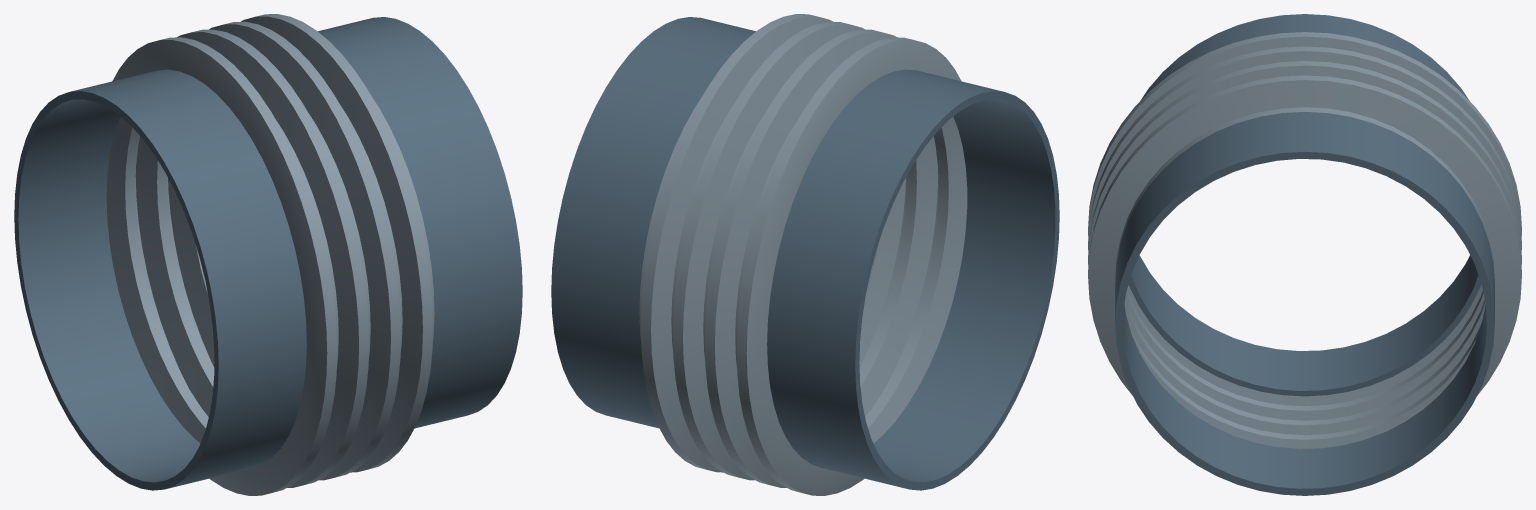
The model's file is silf-dn500-L455-D530.glb.
3 views of the same model, side by side, from view 1: azimuth 30°, elevation 25°; view 2: azimuth 150°, elevation 25°; view 3: azimuth 270°, elevation 25° (orthographic). The views are drawn at different scales.
Visible parts, largest first — view 1: prokladka_silfon_1, patrubok_1, patrubok_2; view 2: prokladka_silfon_1, patrubok_1, patrubok_2; view 3: prokladka_silfon_1, patrubok_2, patrubok_1.
Boxes of the visible parts, x1,y1,x2,y2 form: prokladka_silfon_1: (106,14,434,495); patrubok_1: (14,69,306,490); patrubok_2: (318,17,522,428); prokladka_silfon_1: (639,14,967,495); patrubok_1: (767,69,1059,490); patrubok_2: (551,17,755,428); prokladka_silfon_1: (1088,32,1521,448); patrubok_2: (1115,112,1494,495); patrubok_1: (1128,14,1481,396).
Size of the model in its own units: 455 by 606 by 606.
